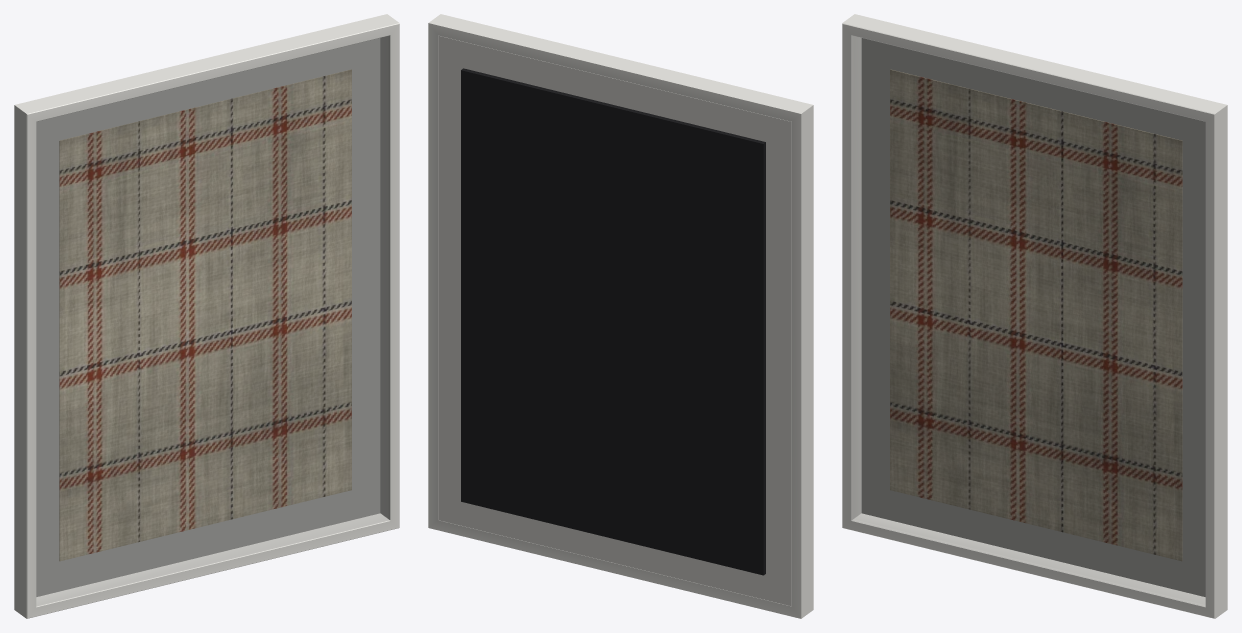
The model's file is art_linen_check.gltf.
3 renders of one model, left to right at view 1: azimuth 30°, elevation 25°; view 2: azimuth 150°, elevation 25°; view 3: azimuth 330°, elevation 25°, orthographic.
Parts seen in each view (by area): view 1: Art_LinenCheck_Art, Art_LinenCheck_Backing, Art_LinenCheck_Frame; view 2: Art_LinenCheck_Spacer, Art_LinenCheck_Backing, Art_LinenCheck_Frame; view 3: Art_LinenCheck_Art, Art_LinenCheck_Backing, Art_LinenCheck_Frame.
Part boxes in pixels (box(x1,y1,x2,y2)): Art_LinenCheck_Art: box(59, 69, 351, 561); Art_LinenCheck_Backing: box(36, 38, 380, 596); Art_LinenCheck_Frame: box(14, 14, 399, 618); Art_LinenCheck_Spacer: box(461, 68, 765, 575); Art_LinenCheck_Backing: box(438, 35, 791, 606); Art_LinenCheck_Frame: box(428, 14, 813, 618); Art_LinenCheck_Art: box(890, 69, 1182, 561); Art_LinenCheck_Backing: box(861, 38, 1205, 596); Art_LinenCheck_Frame: box(842, 14, 1227, 618).
Size of the model in its own units: 0.85 by 1.1 by 0.06.
Materials: 4 (1 with a texture image).
